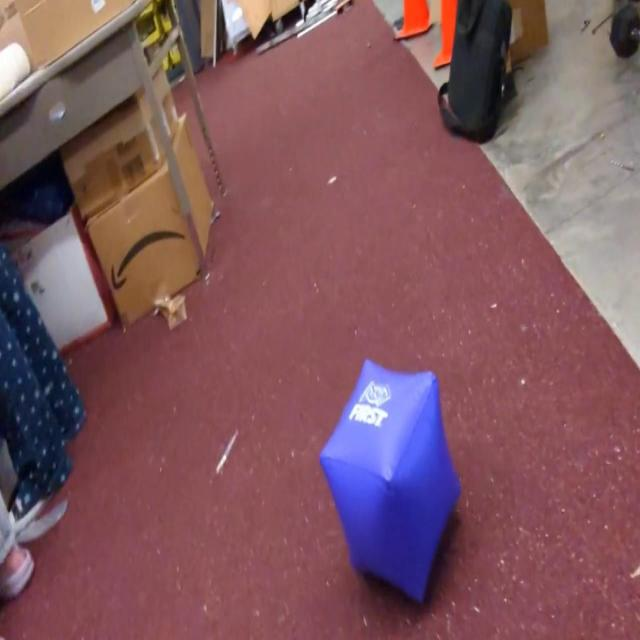frc_cube: (317, 360, 463, 606)
